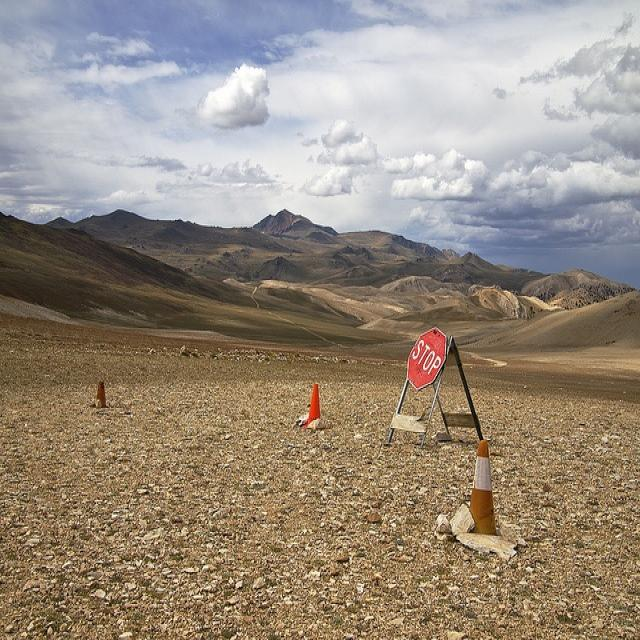reflective_cone: (456, 437, 501, 535), (300, 381, 324, 428), (92, 377, 107, 407)
